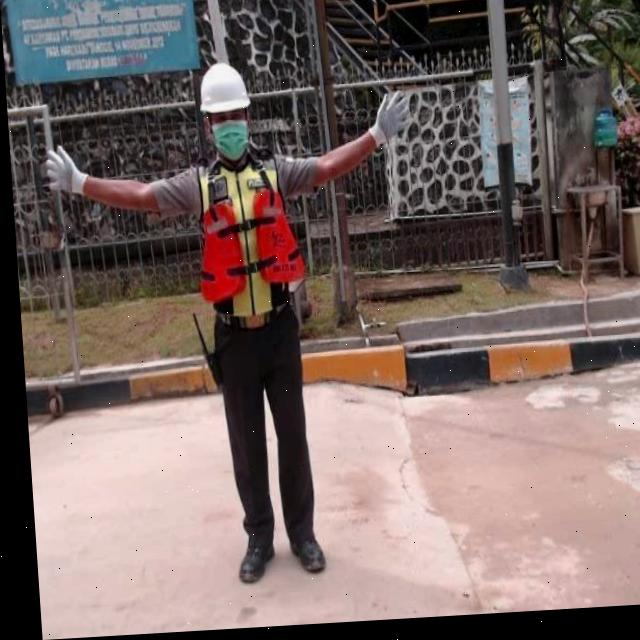Gloves: (37, 143, 86, 198), (364, 93, 410, 150)
Helmet: (190, 65, 246, 120)
Safety-Vest: (187, 153, 303, 321)
